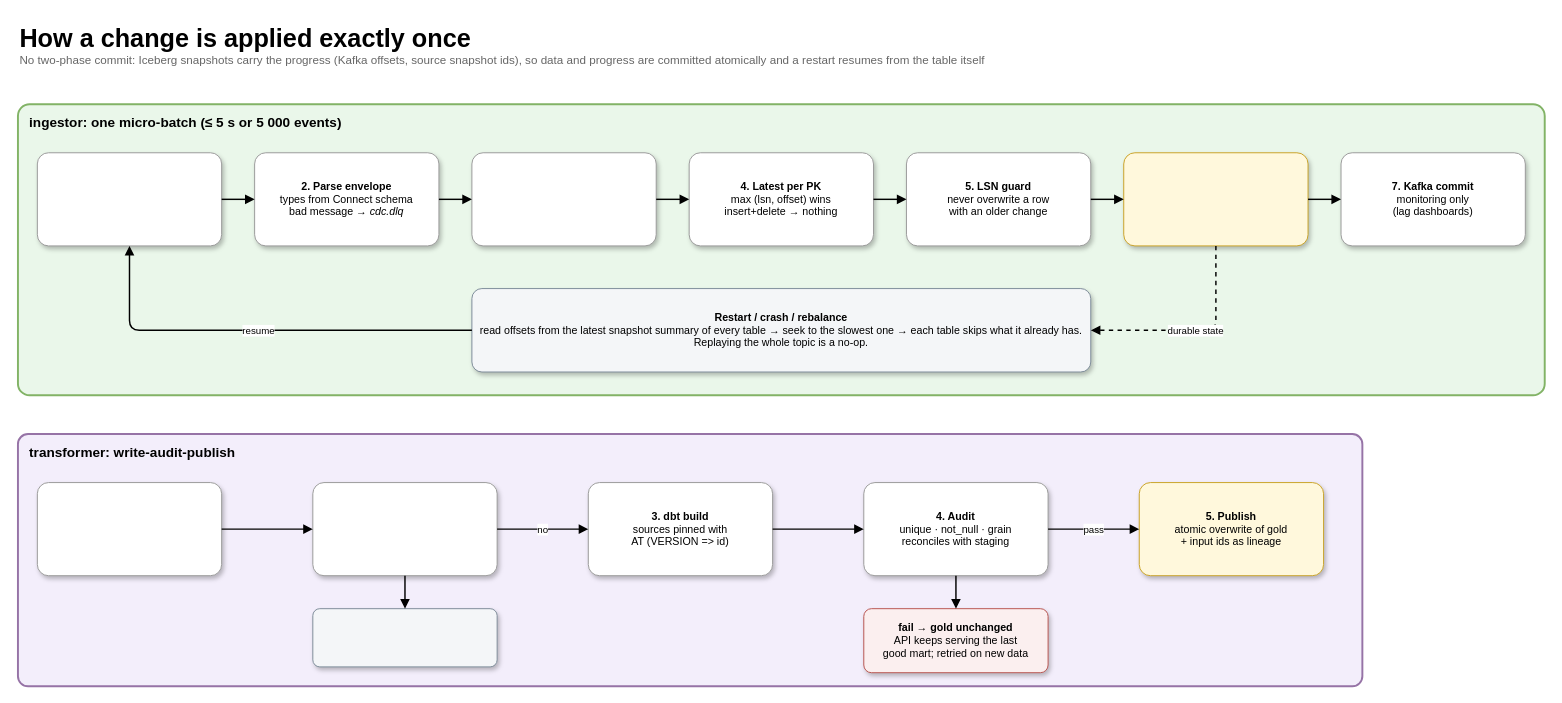
Image size: 1562x703. Some labels were removed from this diagram. Here are the shapes that lost their labels. From the top down, the centre of each, then its label:
At (x=129, y=200): "1. Poll Redpanda, manual offsets".
At (x=564, y=200): "3. Skip replays offset ≤ offset already committed by this table".
At (x=1216, y=200): "6. One Iceberg commit per table delete + append (CoW) + offsets in snapshot".
At (x=129, y=530): "1. Resolve input current snapshot id of each silver table".
At (x=405, y=530): "2. Already published? compare with lineage in gold snapshot summary".
At (x=405, y=639): "yes → nothing to do restart never republishes".
